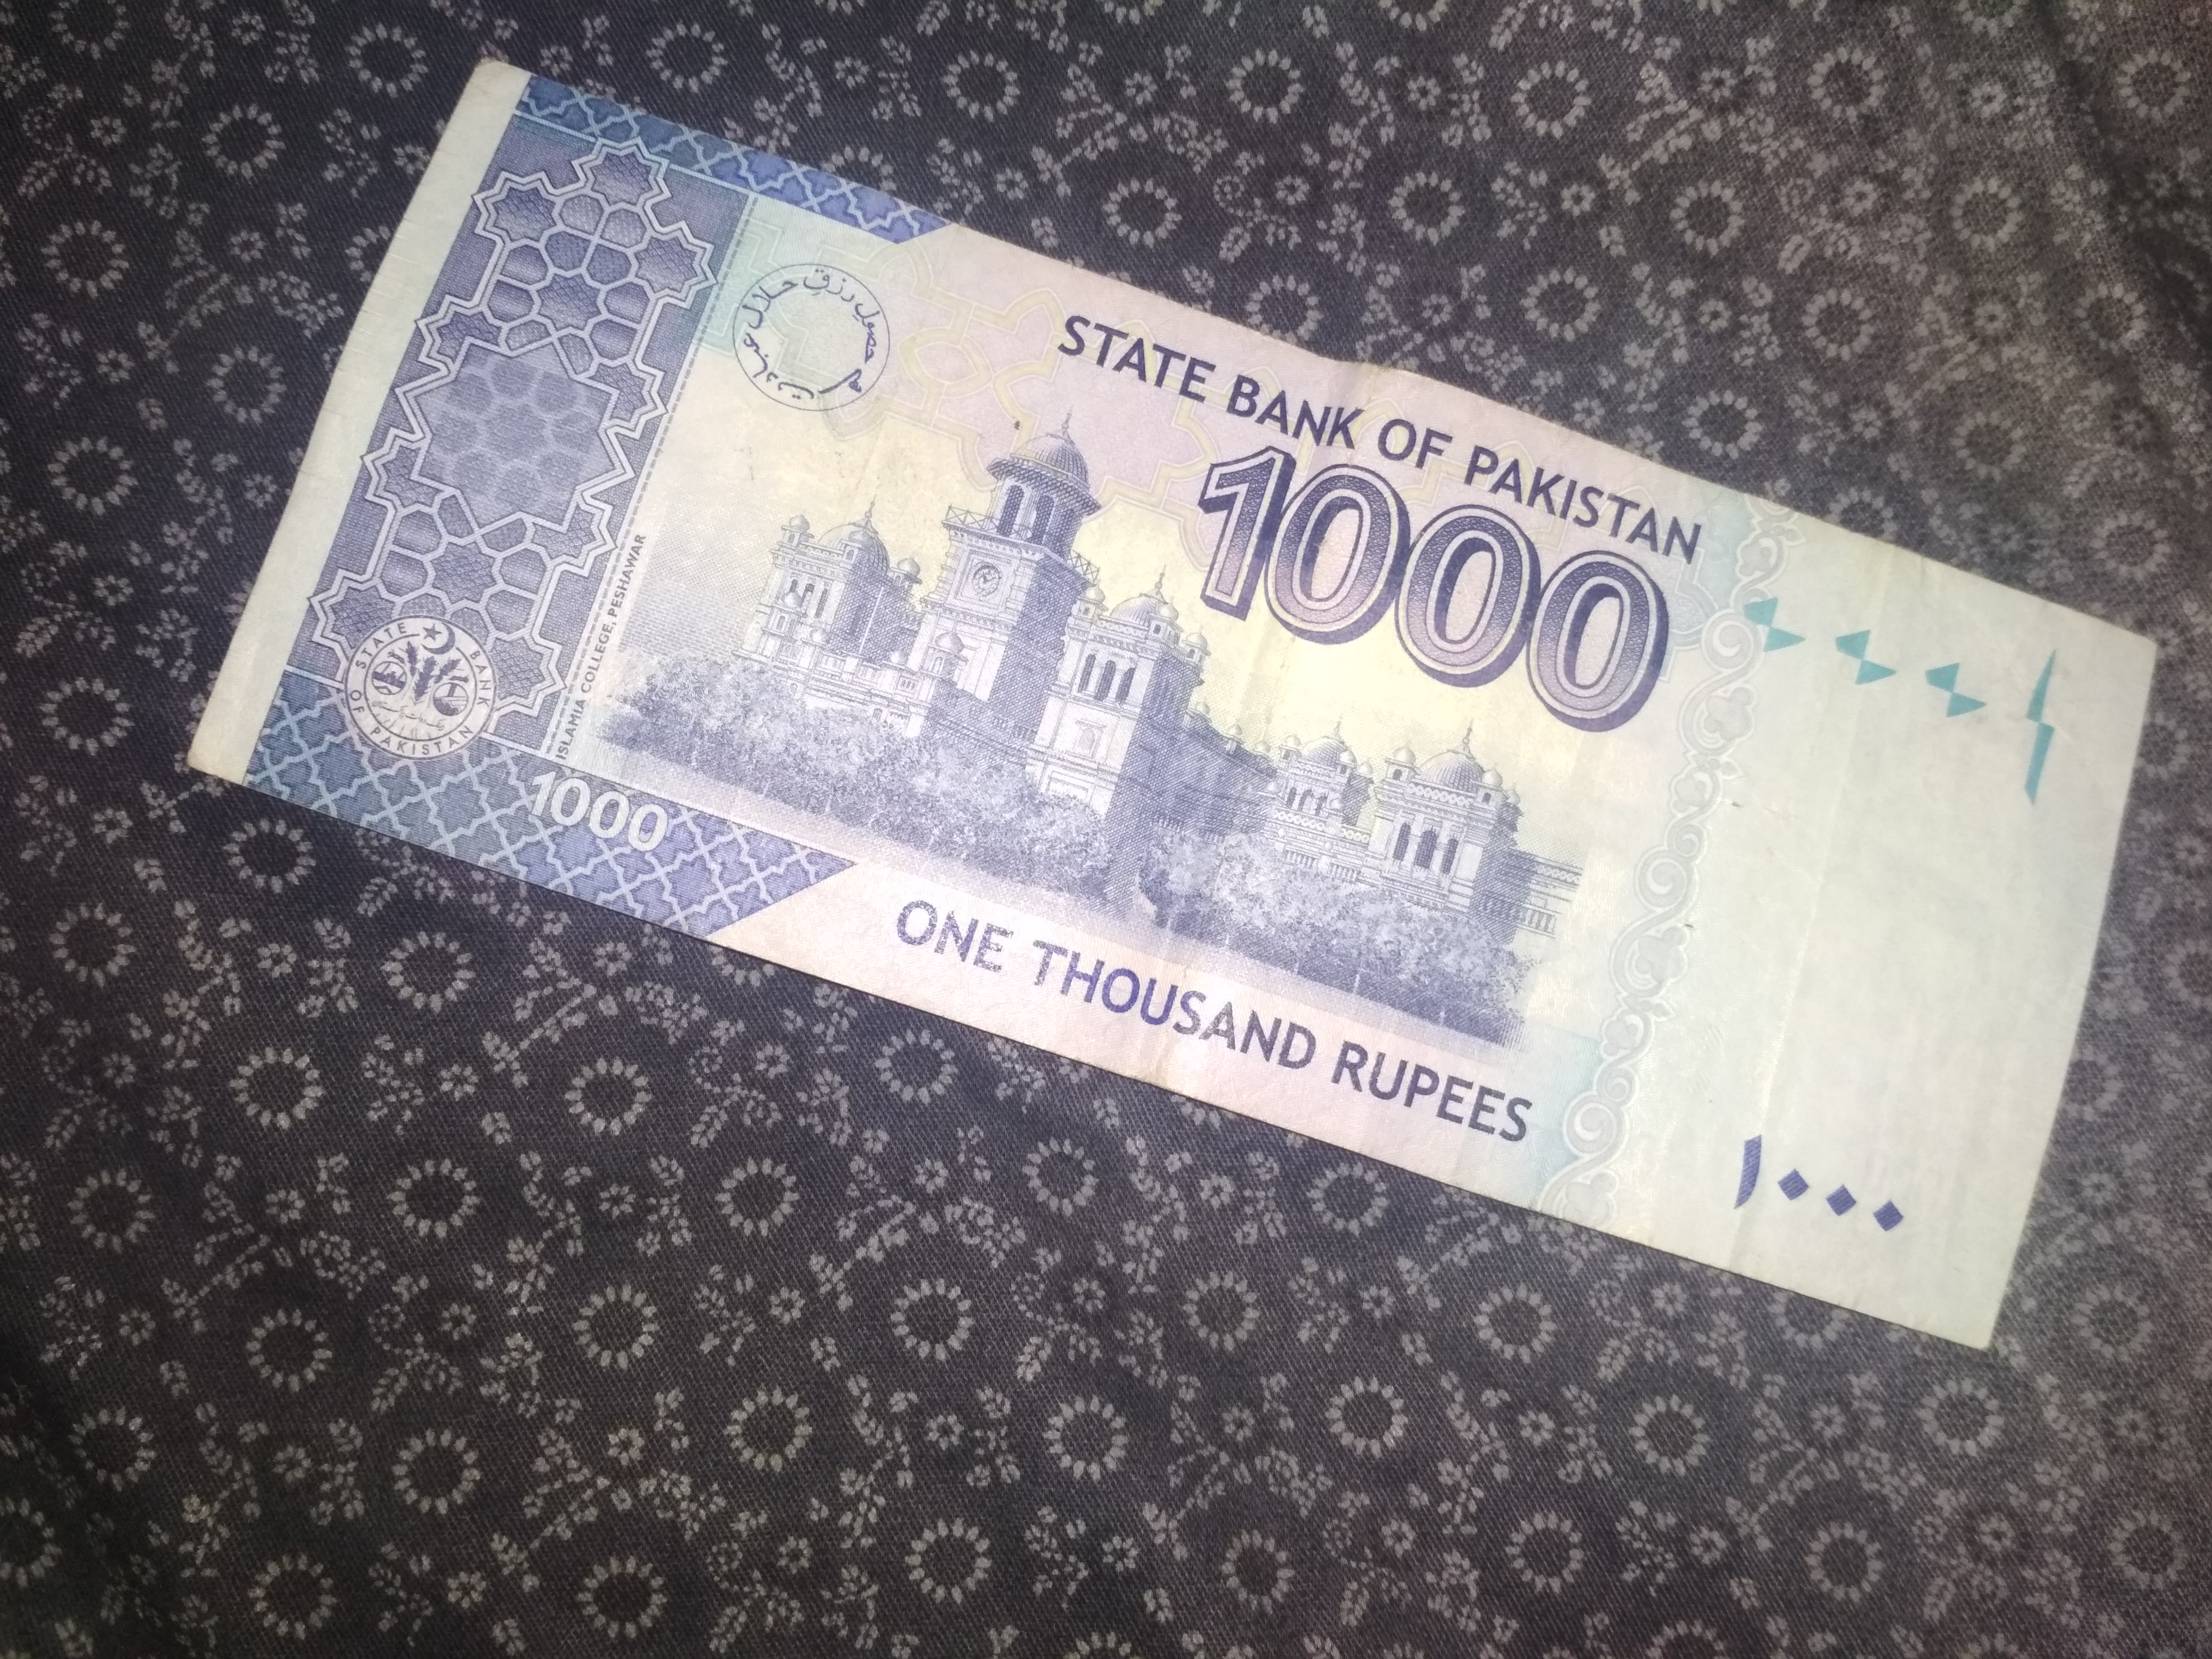1000 rupee: (199, 49, 2134, 1401)
